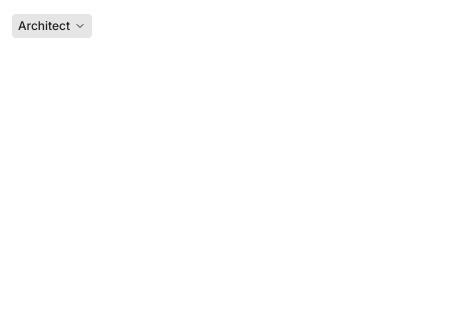
Scenario: ArchetypeSelector › resets showAll state when reopened
This screenshot has width=469, height=334.
# Open, show all, close via Escape
Click the button with test id "archetype-selector" at [52, 26], box [12, 14, 92, 38]
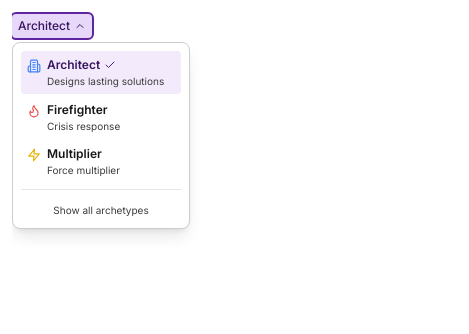
Click the button "Show all archetypes" at [101, 210], box [21, 200, 181, 220]
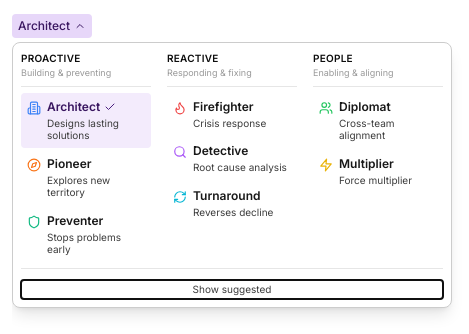
Check: the text "Pioneer" is shown, box [47, 156, 92, 172]
Press Escape
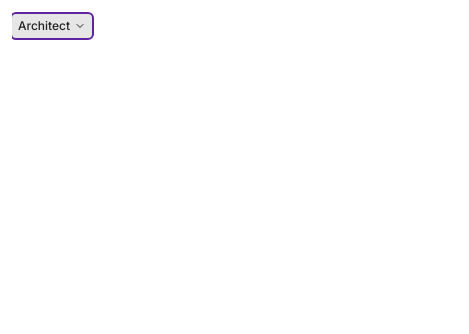
# Reopen — should show default view (not "show all")
Click the button with test id "archetype-selector" at [52, 26], box [12, 14, 92, 38]
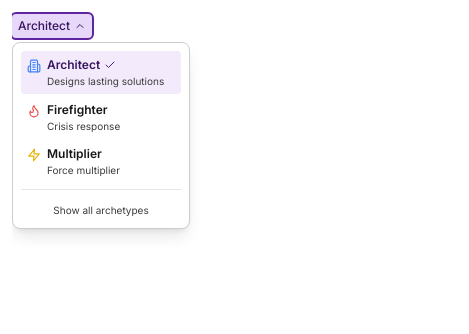
Check: the option "Pioneer" is not shown
Check: the button "Show all archetypes" is shown, box [21, 200, 181, 220]
